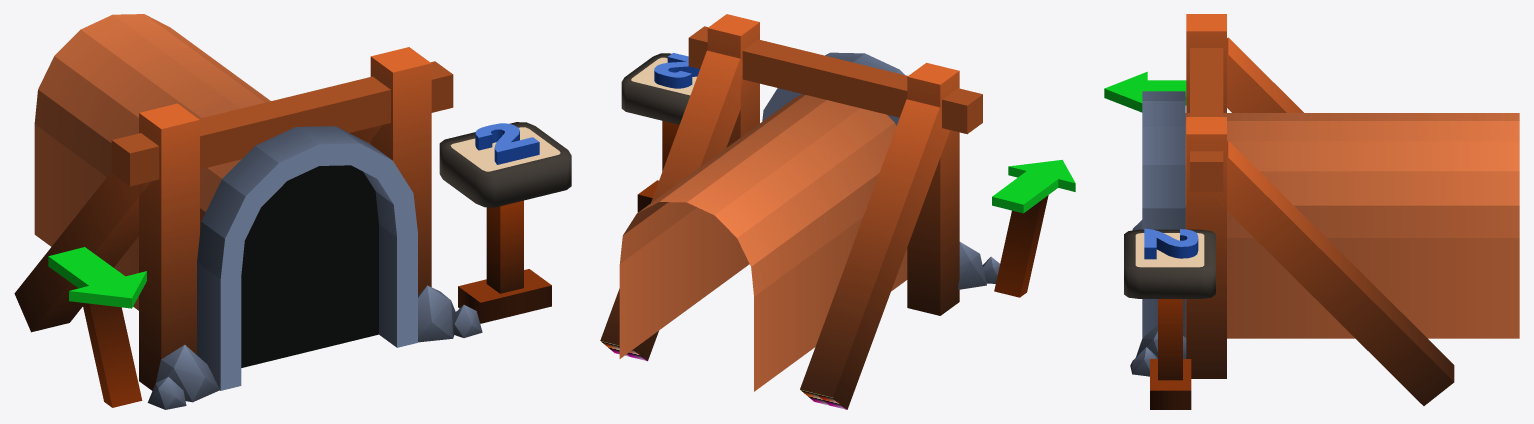
The model's file is Green_2_R.fbx.
3 renders of one model, left to right at view 1: azimuth 30°, elevation 25°; view 2: azimuth 150°, elevation 25°; view 3: azimuth 270°, elevation 25°, orthographic. The views are drawn at different scales.
Visible parts, largest first — view 1: tunel_1.004, tunel_1.005, Text.007; view 2: tunel_1.004, tunel_1.005, Text.007; view 3: tunel_1.004, tunel_1.005, Text.007.
Boxes of the visible parts, box(x1,y1,x2,y2) form: tunel_1.004: box(14, 14, 571, 409); tunel_1.005: box(48, 247, 146, 308); Text.007: box(475, 123, 539, 164); tunel_1.004: box(600, 14, 1048, 409); tunel_1.005: box(992, 159, 1075, 213); Text.007: box(654, 53, 699, 88); tunel_1.004: box(1124, 14, 1519, 409); tunel_1.005: box(1104, 71, 1186, 112); Text.007: box(1144, 228, 1198, 259).
Size of the model in its own units: 812 by 468 by 647.
